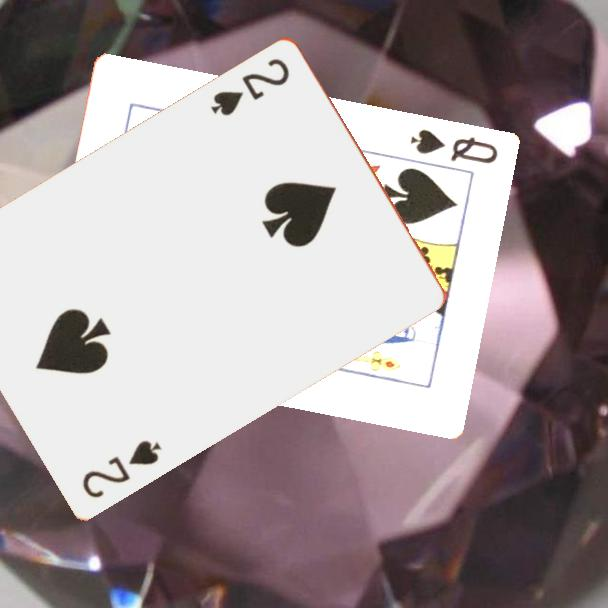s02: (78, 435, 165, 501), (207, 54, 293, 119)
s12: (406, 126, 500, 167)
